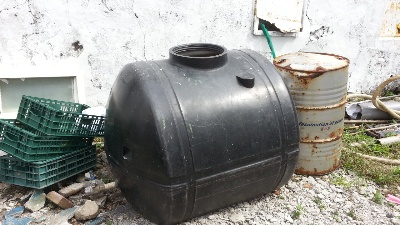bucket: (103, 41, 301, 225), (272, 50, 350, 177)
